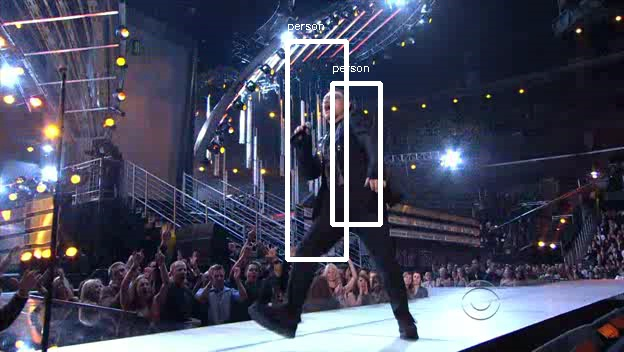person: (296, 88, 385, 247), (293, 88, 382, 247), (299, 88, 388, 247), (296, 85, 385, 244), (296, 91, 385, 250)
target_negative: (45, 243, 487, 314), (198, 182, 591, 201), (448, 92, 485, 244), (595, 306, 617, 346), (307, 4, 523, 7), (403, 265, 422, 276)
